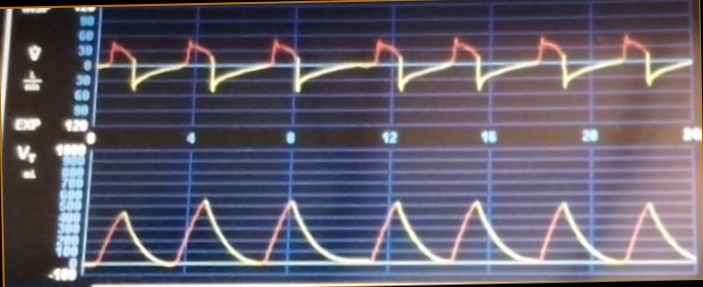Normal Flow: (103, 17, 691, 114)
Normal Volume: (90, 177, 696, 273)
